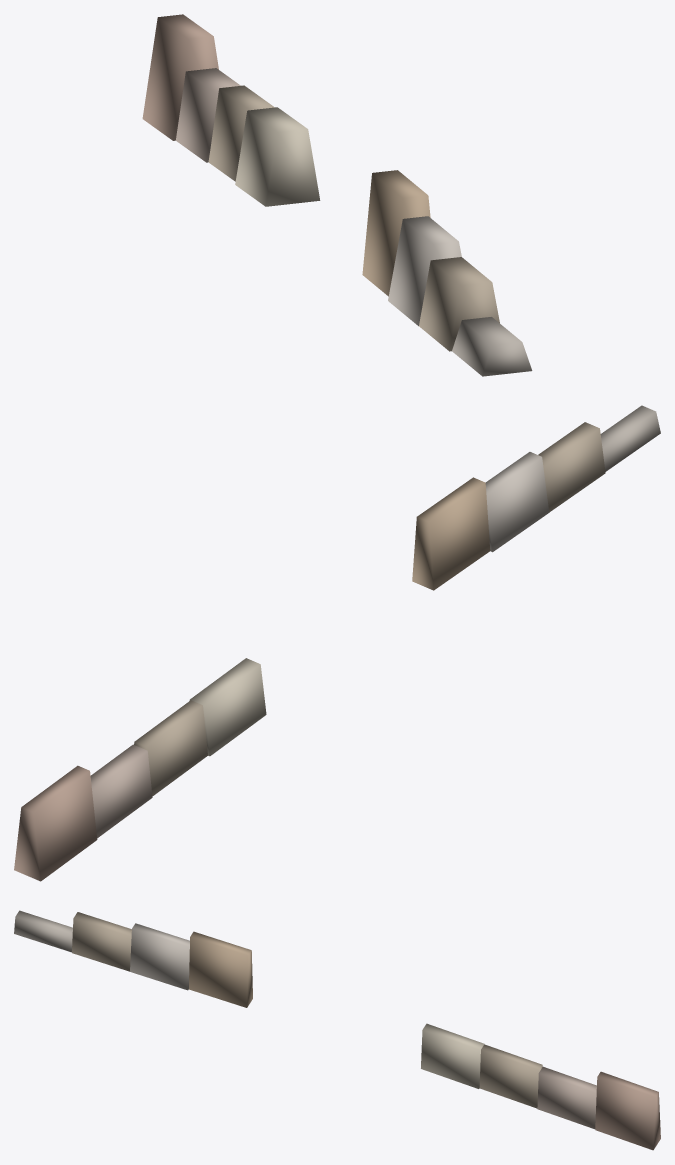
File: farm_-48_-50_collision.glb
3 views of the same model, one above another, from view 1: azimuth 30°, elevation 25°; view 2: azimuth 150°, elevation 25°; view 3: azimuth 270°, elevation 25° (orthographic). The views are drawn at different scales.
Visible parts, largest first — view 1: geometry_0; view 2: geometry_0; view 3: geometry_0.
Part boxes in pixels (left/top/right/bottom): geometry_0: left=142, top=14, right=532, bottom=376; geometry_0: left=14, top=405, right=660, bottom=881; geometry_0: left=14, top=910, right=660, bottom=1150.
Size of the model in its own units: 5.05 by 4.5 by 16.25.
